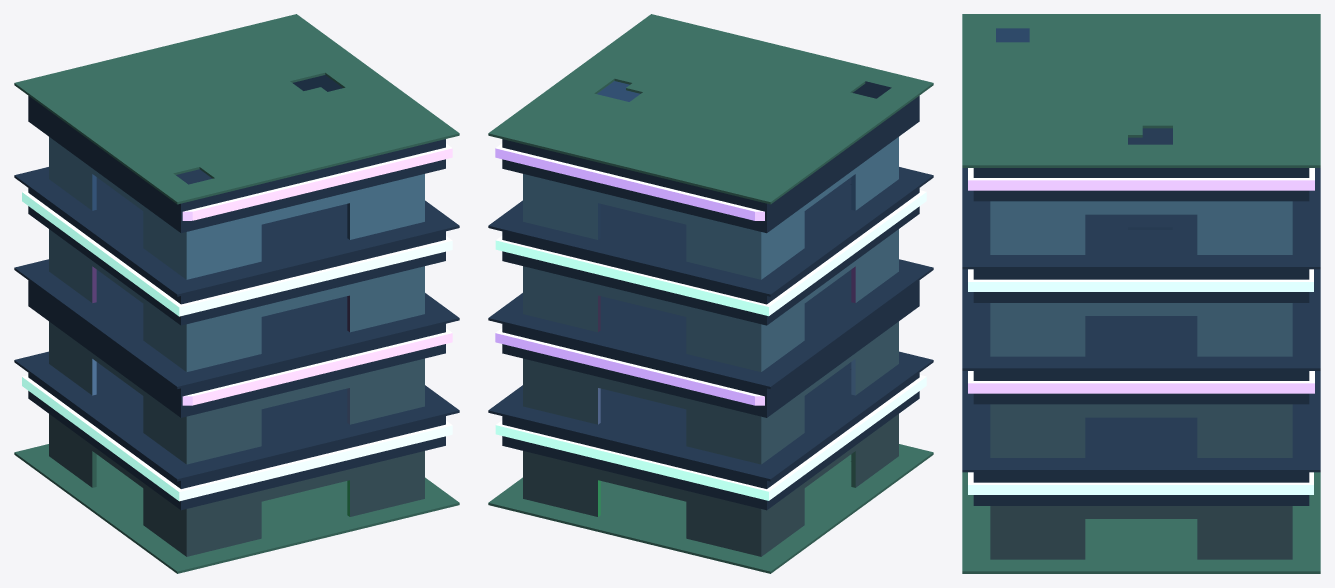
The model's file is StudzDragon_TryWallColorChange_2.gltf.
The picture shows the model from 3 angles, left to right: view 1: azimuth 30°, elevation 25°; view 2: azimuth 150°, elevation 25°; view 3: azimuth 270°, elevation 25°; orthographic projection. The views are drawn at different scales.
Visible parts, largest first — view 1: Neon Outline.017; view 2: Neon Outline.017; view 3: Neon Outline.017.
Boxes of the visible parts, x1,y1,x2,y2 form: Neon Outline.017: (14,14,459,573); Neon Outline.017: (488,14,933,573); Neon Outline.017: (962,14,1320,573).
Size of what is drawn, in the model's own units: 32 by 40.25 by 32.
Materials: 3 (1 with a texture image).
